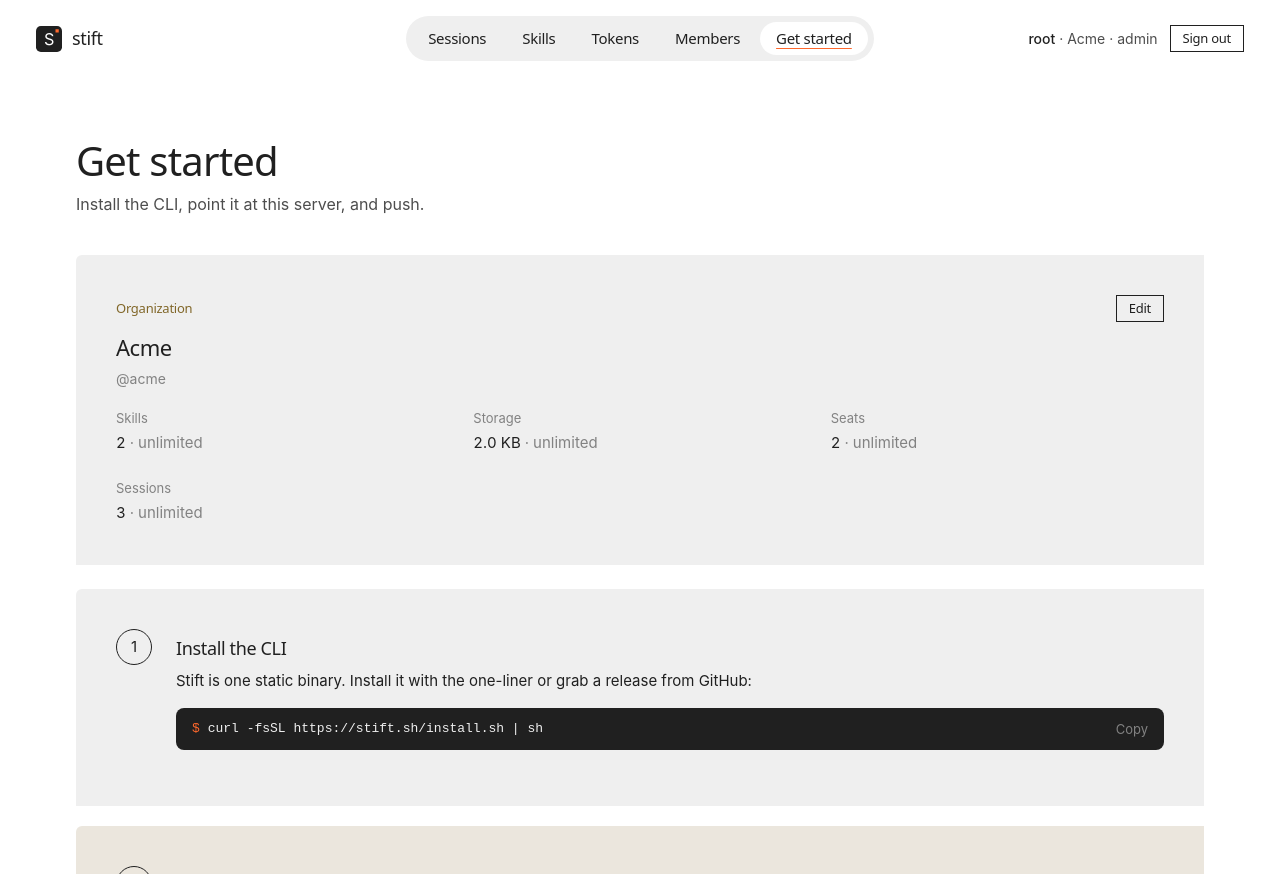
Scenario: a locked slug cannot be edited; members see no edit button
Click the button "Edit" at (1140, 309), box x1=1116 y1=295 x2=1164 y2=322
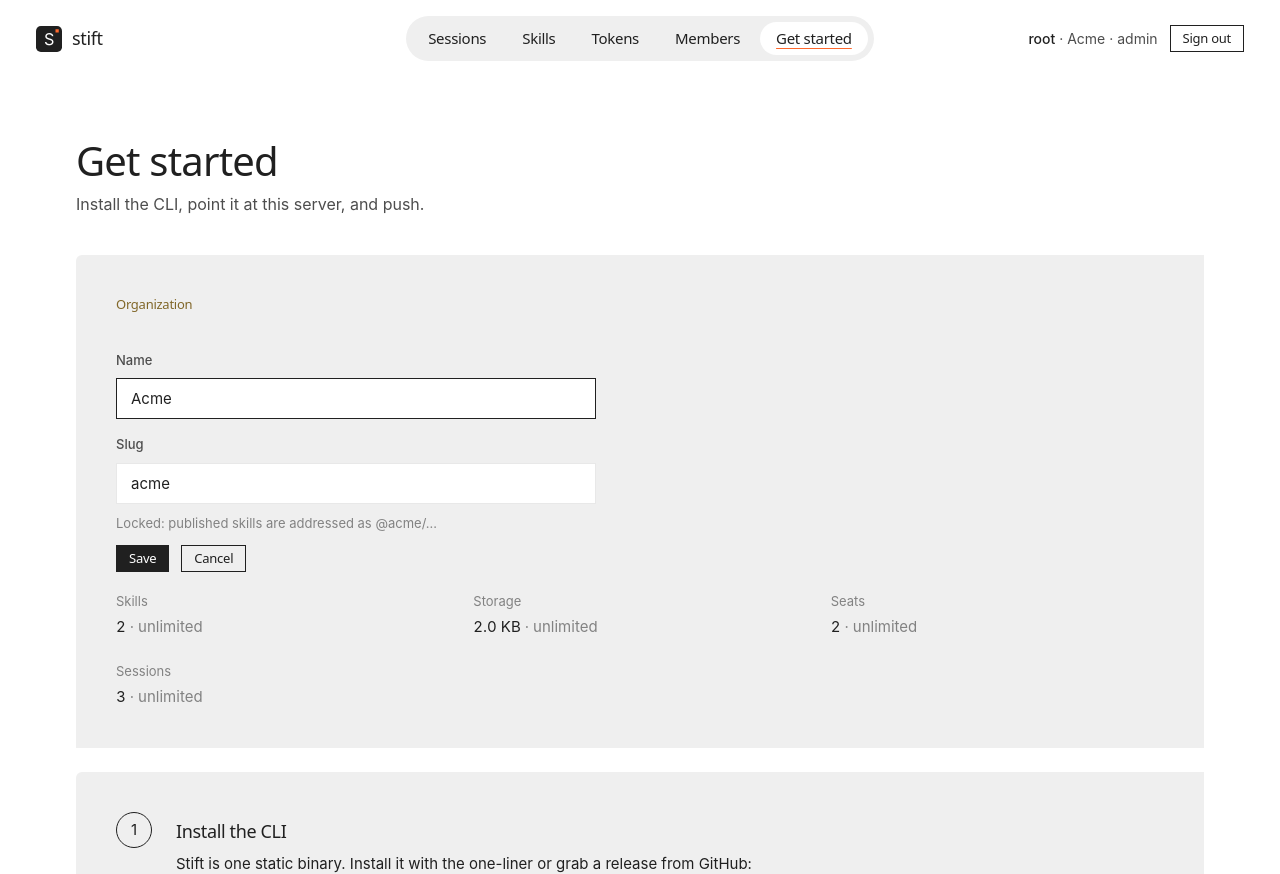
Result: the field labelled "Slug" is disabled at x1=116 y1=463 x2=596 y2=504
Result: the element "Organization" shows "Locked: published skills are addressed as @acme/…" at x1=116 y1=515 x2=437 y2=531
